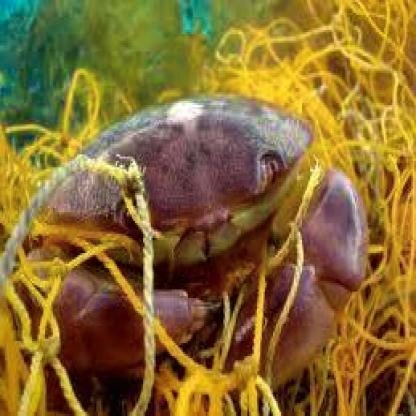net: (215, 0, 416, 416)
